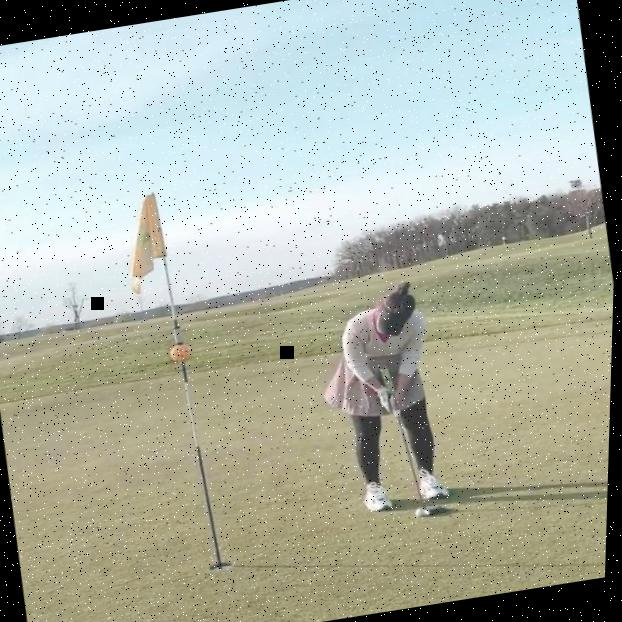ClubHead: (425, 508, 434, 516)
GolfBall: (417, 508, 427, 518)
